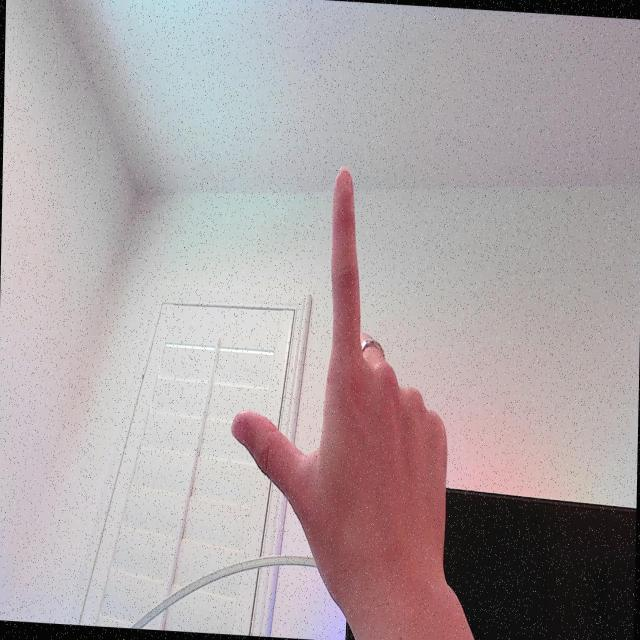L: (223, 149, 455, 630)
